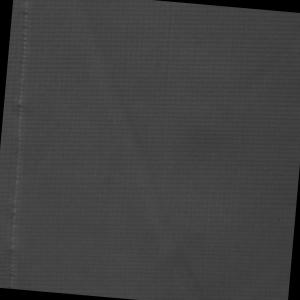Wrinkle: (39, 1, 252, 300)
